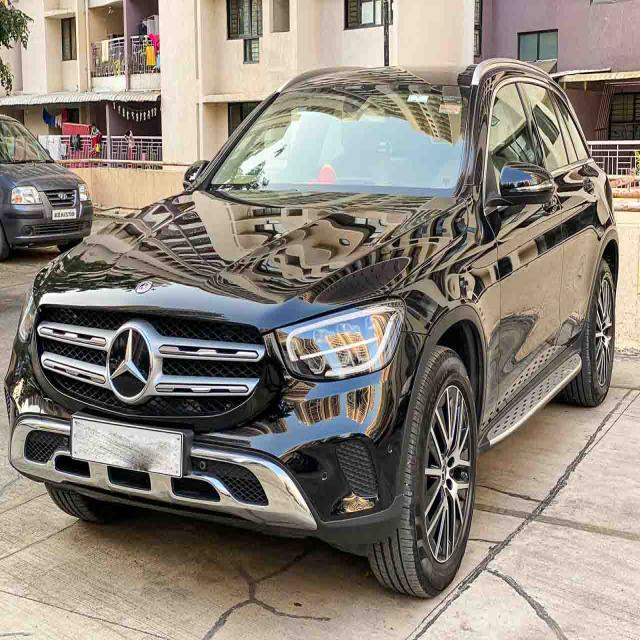car: (15, 62, 612, 542), (0, 116, 93, 239)
